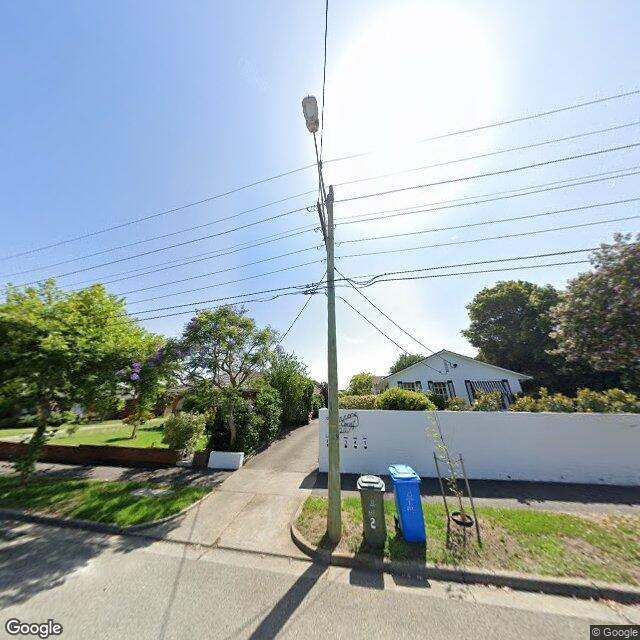crossarm: (307, 203, 328, 252)
streetlight: (302, 95, 330, 215)
timber-pole: (327, 195, 342, 543)
